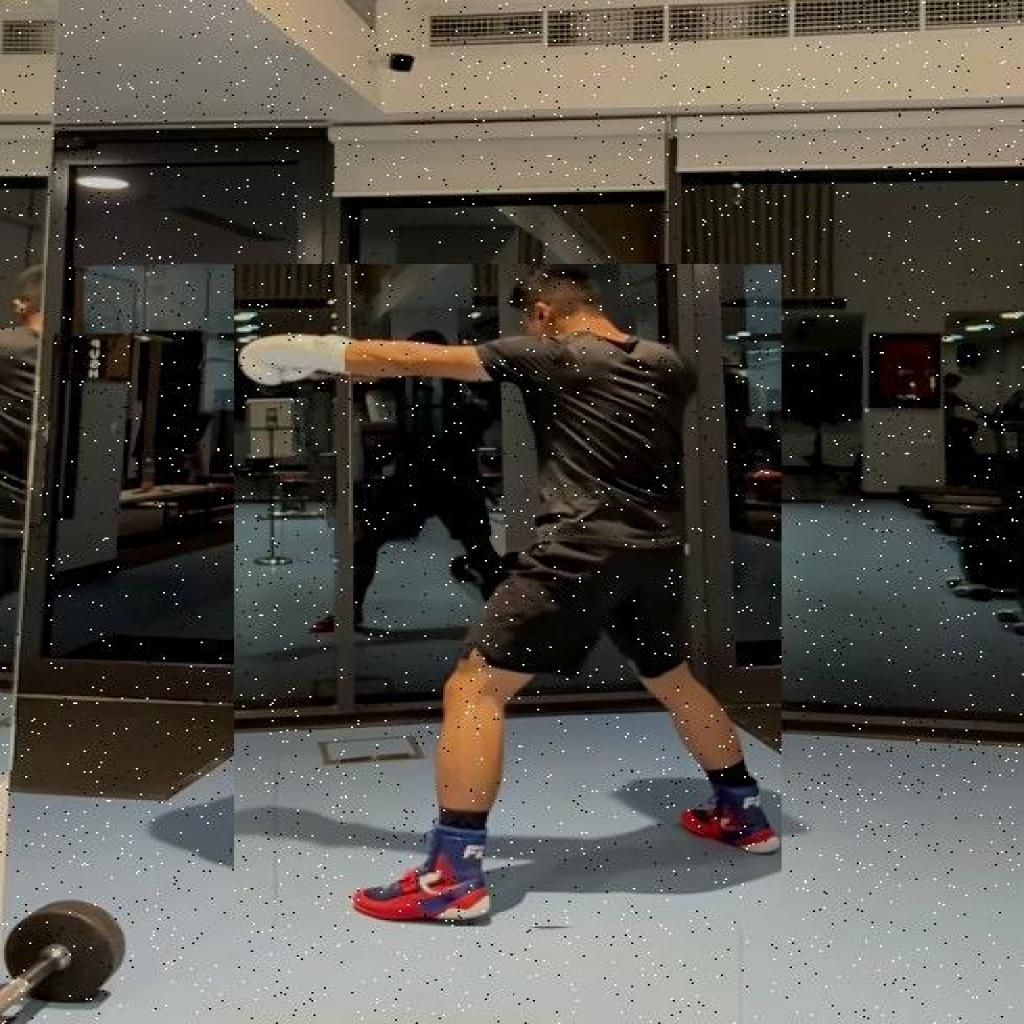jab: (234, 264, 783, 926)
